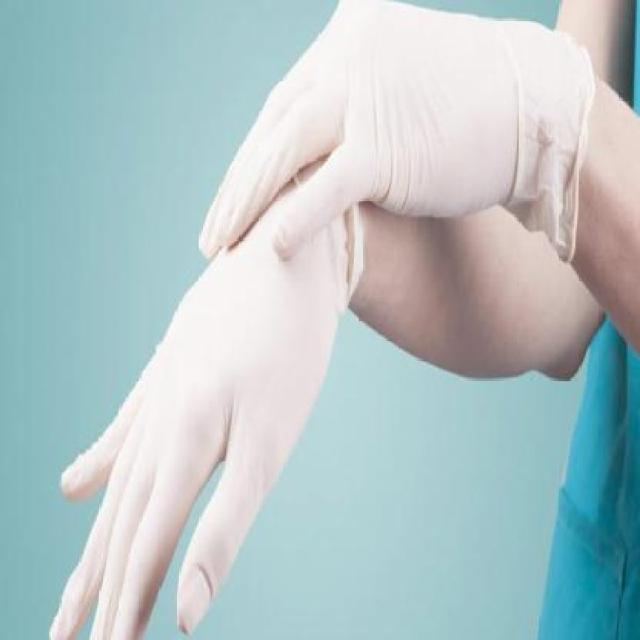gloved_hand: (35, 170, 368, 638), (186, 8, 600, 287)
